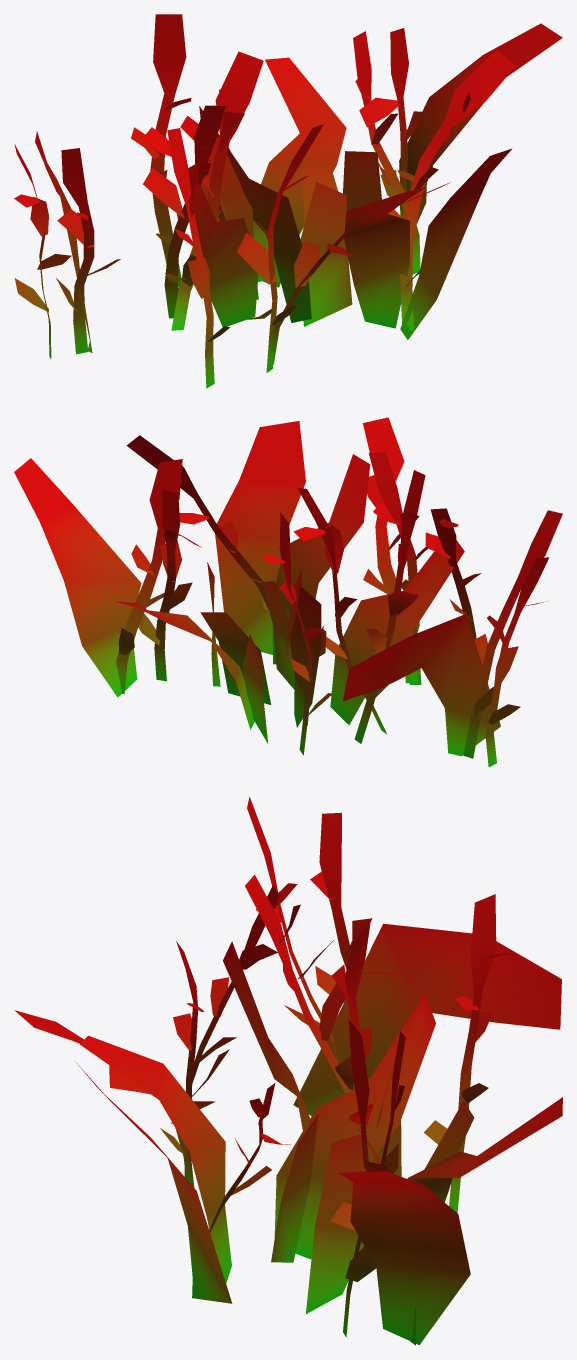
The model's file is Var4_LOD1.fbx.
3 renders of one model, top to bottom at view 1: azimuth 30°, elevation 25°; view 2: azimuth 150°, elevation 25°; view 3: azimuth 270°, elevation 25°, orthographic. The views are drawn at different scales.
Visible parts, largest first — view 1: _abc8_Var4_LOD1; view 2: _abc8_Var4_LOD1; view 3: _abc8_Var4_LOD1.
Boxes of the visible parts, x1=… form: _abc8_Var4_LOD1: x1=14, y1=14, x2=562, y2=388; _abc8_Var4_LOD1: x1=14, y1=417, x2=562, y2=767; _abc8_Var4_LOD1: x1=14, y1=797, x2=562, y2=1345.
Bounding box in the file's own units: 16.59 × 7.75 × 11.62.
